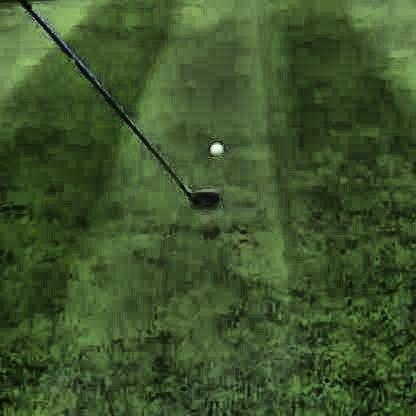golfball: (206, 140, 221, 156)
